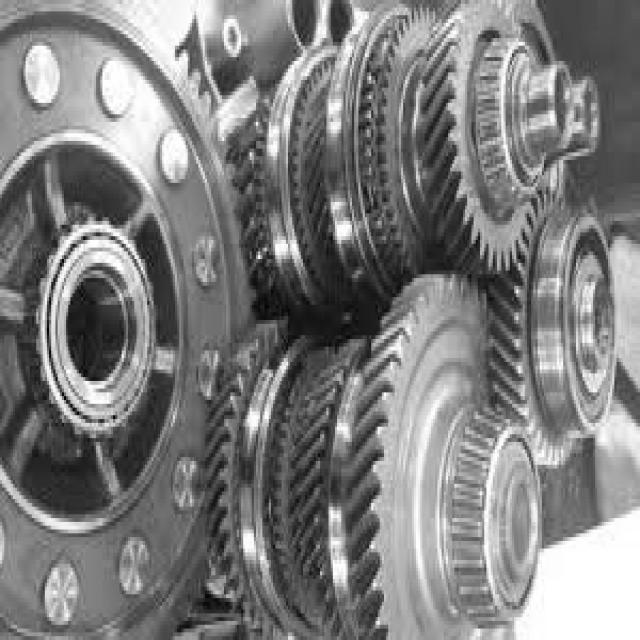No Fault: (4, 9, 639, 637), (216, 341, 543, 632), (233, 18, 544, 283), (25, 202, 164, 452)
